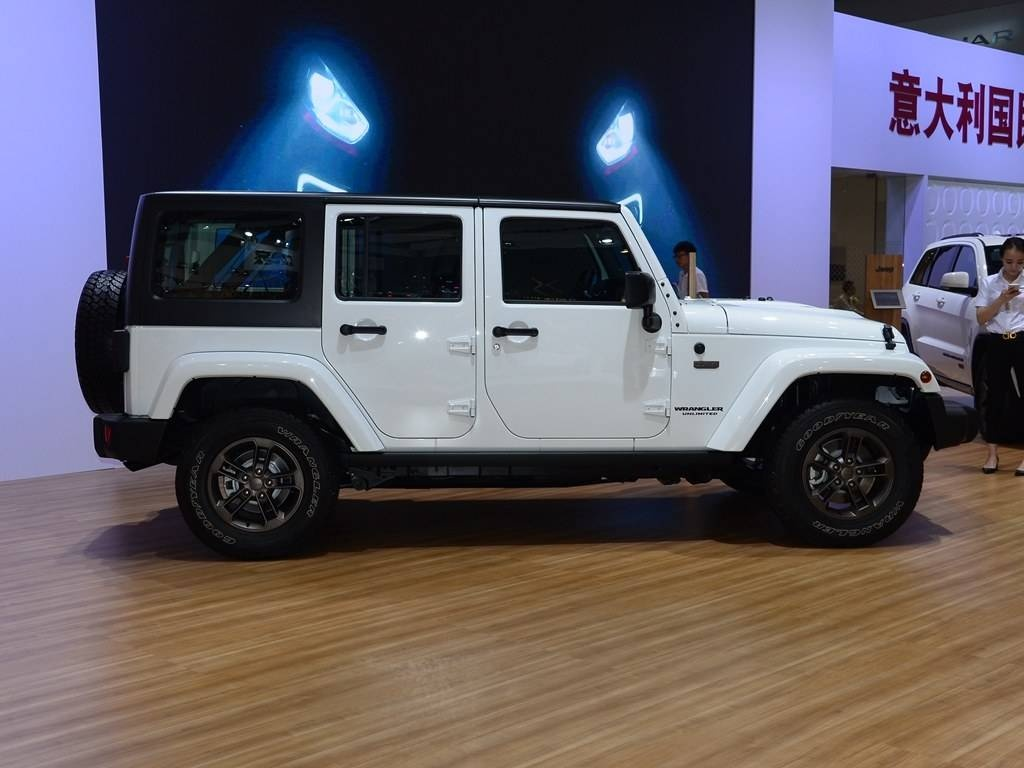jeep: (83, 180, 944, 580)
